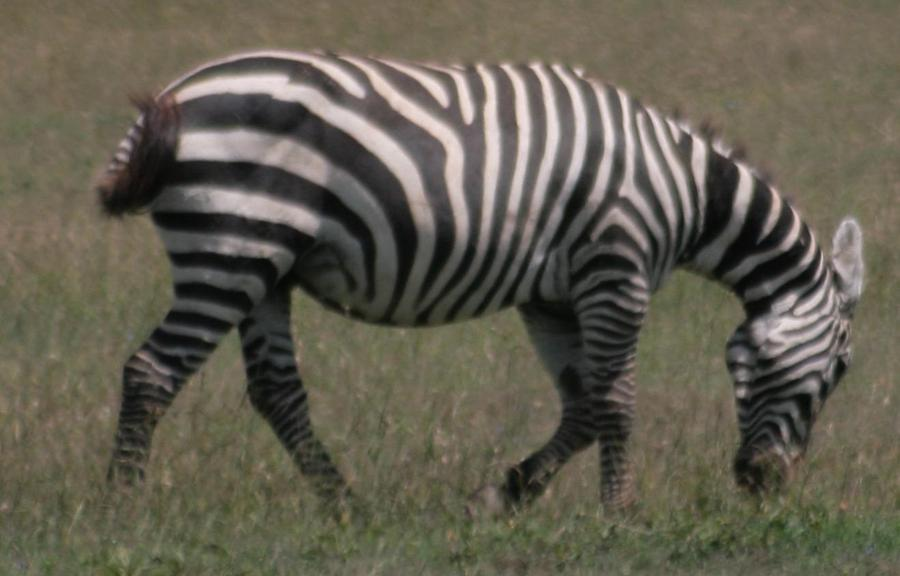zebra_plains: (108, 11, 682, 359)
